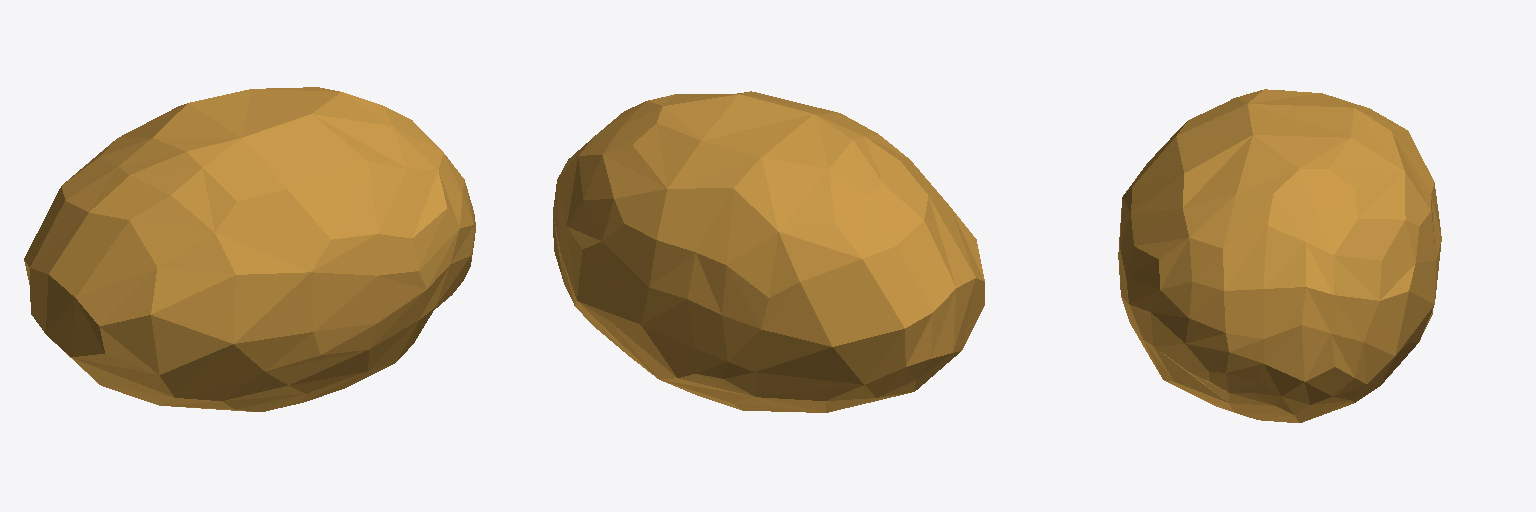
Rendered from potato.obj.
The picture shows the model from 3 angles: view 1: azimuth 30°, elevation 25°; view 2: azimuth 150°, elevation 25°; view 3: azimuth 270°, elevation 25°; orthographic projection.
Visible parts, largest first — view 1: mr.potato; view 2: mr.potato; view 3: mr.potato.
Part boxes in pixels (x1,y1,x2,y2): mr.potato: (24, 87, 475, 411); mr.potato: (553, 91, 984, 412); mr.potato: (1118, 89, 1441, 422).
Size of the model in its own units: 0.1075 by 0.0735 by 0.0761.